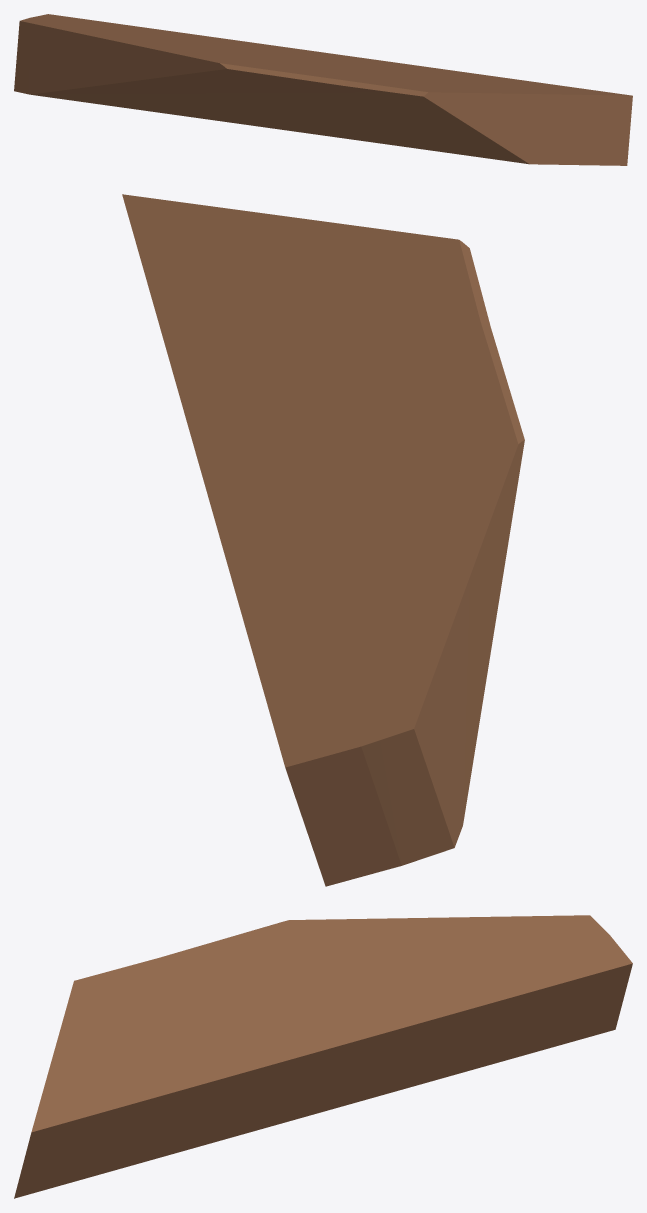
File: WoodCellCube_003_cell_022.fbx
The picture shows the model from 3 angles, top to bottom: view 1: azimuth 30°, elevation 25°; view 2: azimuth 150°, elevation 25°; view 3: azimuth 270°, elevation 25°; orthographic projection. The views are drawn at different scales.
Parts seen in each view (by area): view 1: WoodCellCube_003_cell_022; view 2: WoodCellCube_003_cell_022; view 3: WoodCellCube_003_cell_022.
Part boxes in pixels (<box>): WoodCellCube_003_cell_022: <box>14,14,632,165</box>; WoodCellCube_003_cell_022: <box>122,194,524,886</box>; WoodCellCube_003_cell_022: <box>14,915,632,1198</box>.
Size of the model in its own units: 1.64 by 0.4154 by 1.44.
Materials: 1 (1 with a texture image).
